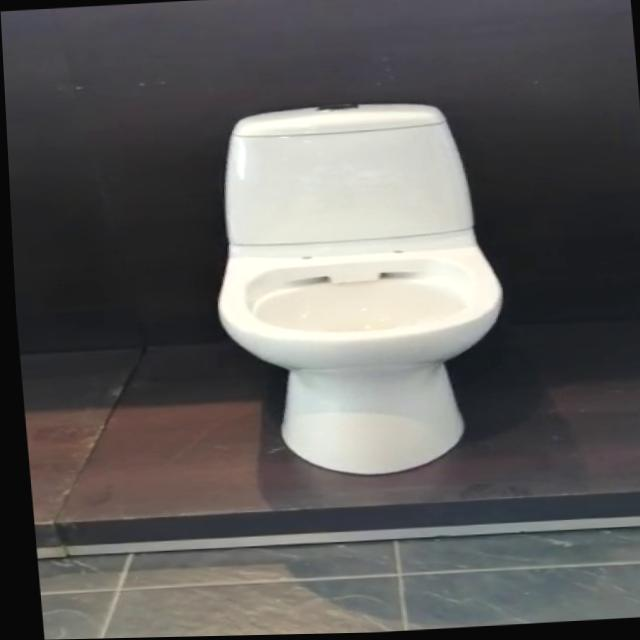toilet: (197, 96, 512, 483)
